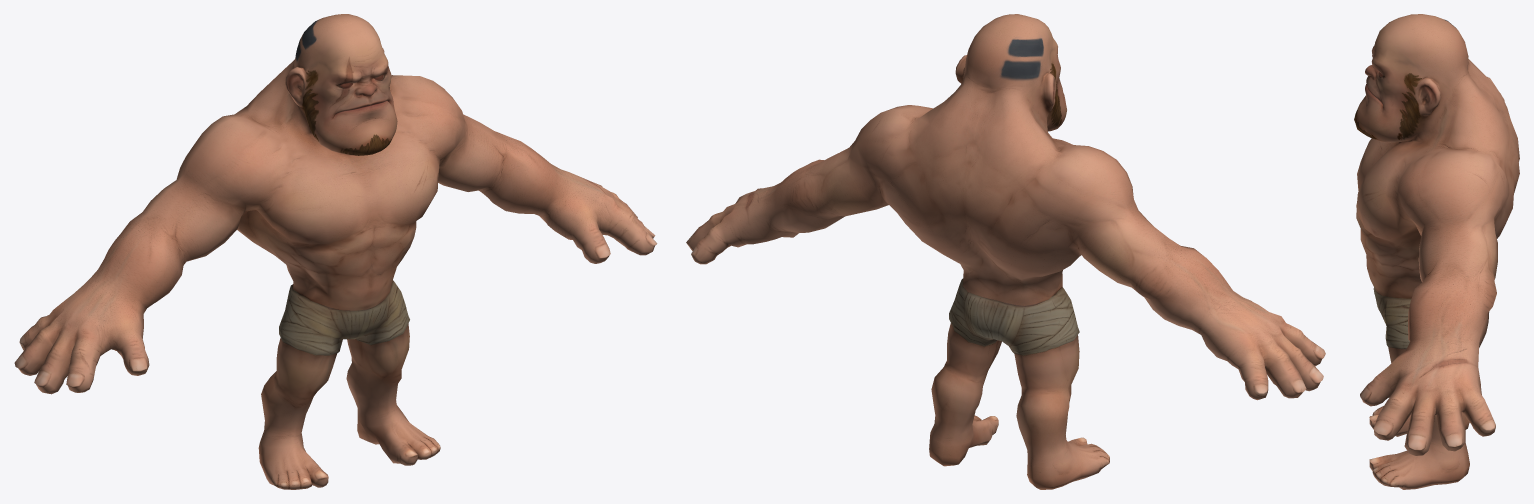
File: BarbNew2.fbx
The picture shows the model from 3 angles, left to right: view 1: azimuth 30°, elevation 25°; view 2: azimuth 150°, elevation 25°; view 3: azimuth 270°, elevation 25°; orthographic projection.
Parts seen in each view (by area): view 1: model:Body; view 2: model:Body; view 3: model:Body.
Part boxes in pixels (box(x1,y1,x2,y2)): model:Body: box(14, 14, 657, 489); model:Body: box(686, 14, 1325, 489); model:Body: box(1354, 14, 1519, 489).
Size of the model in its own units: 25.93 by 17.87 by 6.12.
1 material, 1 textured.
